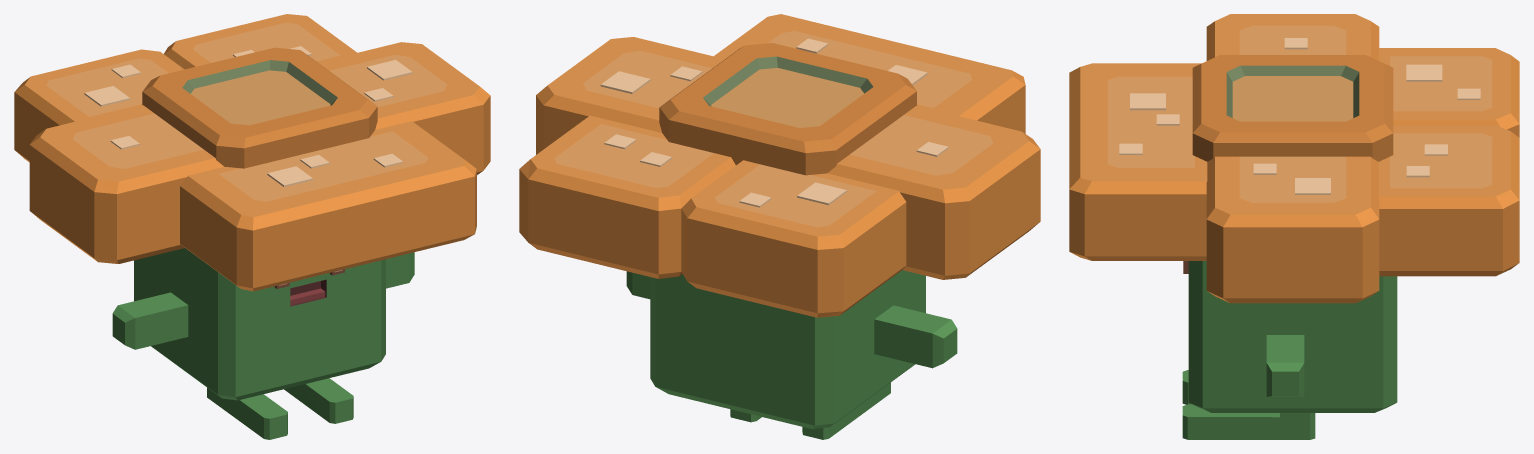
Rendered from model_shiny.obj.
3 views of the same model, side by side, from view 1: azimuth 30°, elevation 25°; view 2: azimuth 150°, elevation 25°; view 3: azimuth 270°, elevation 25° (orthographic). The views are drawn at different scales.
Visible parts, largest first — view 1: 0045_vileplume_shiny; view 2: 0045_vileplume_shiny; view 3: 0045_vileplume_shiny.
Part boxes in pixels (x1=…): 0045_vileplume_shiny: x1=14, y1=14, x2=490, y2=439; 0045_vileplume_shiny: x1=519, y1=14, x2=1040, y2=439; 0045_vileplume_shiny: x1=1069, y1=14, x2=1519, y2=439.
Size of the model in its own units: 2.85 by 2.06 by 2.61.
Materials: 1 (1 with a texture image).
